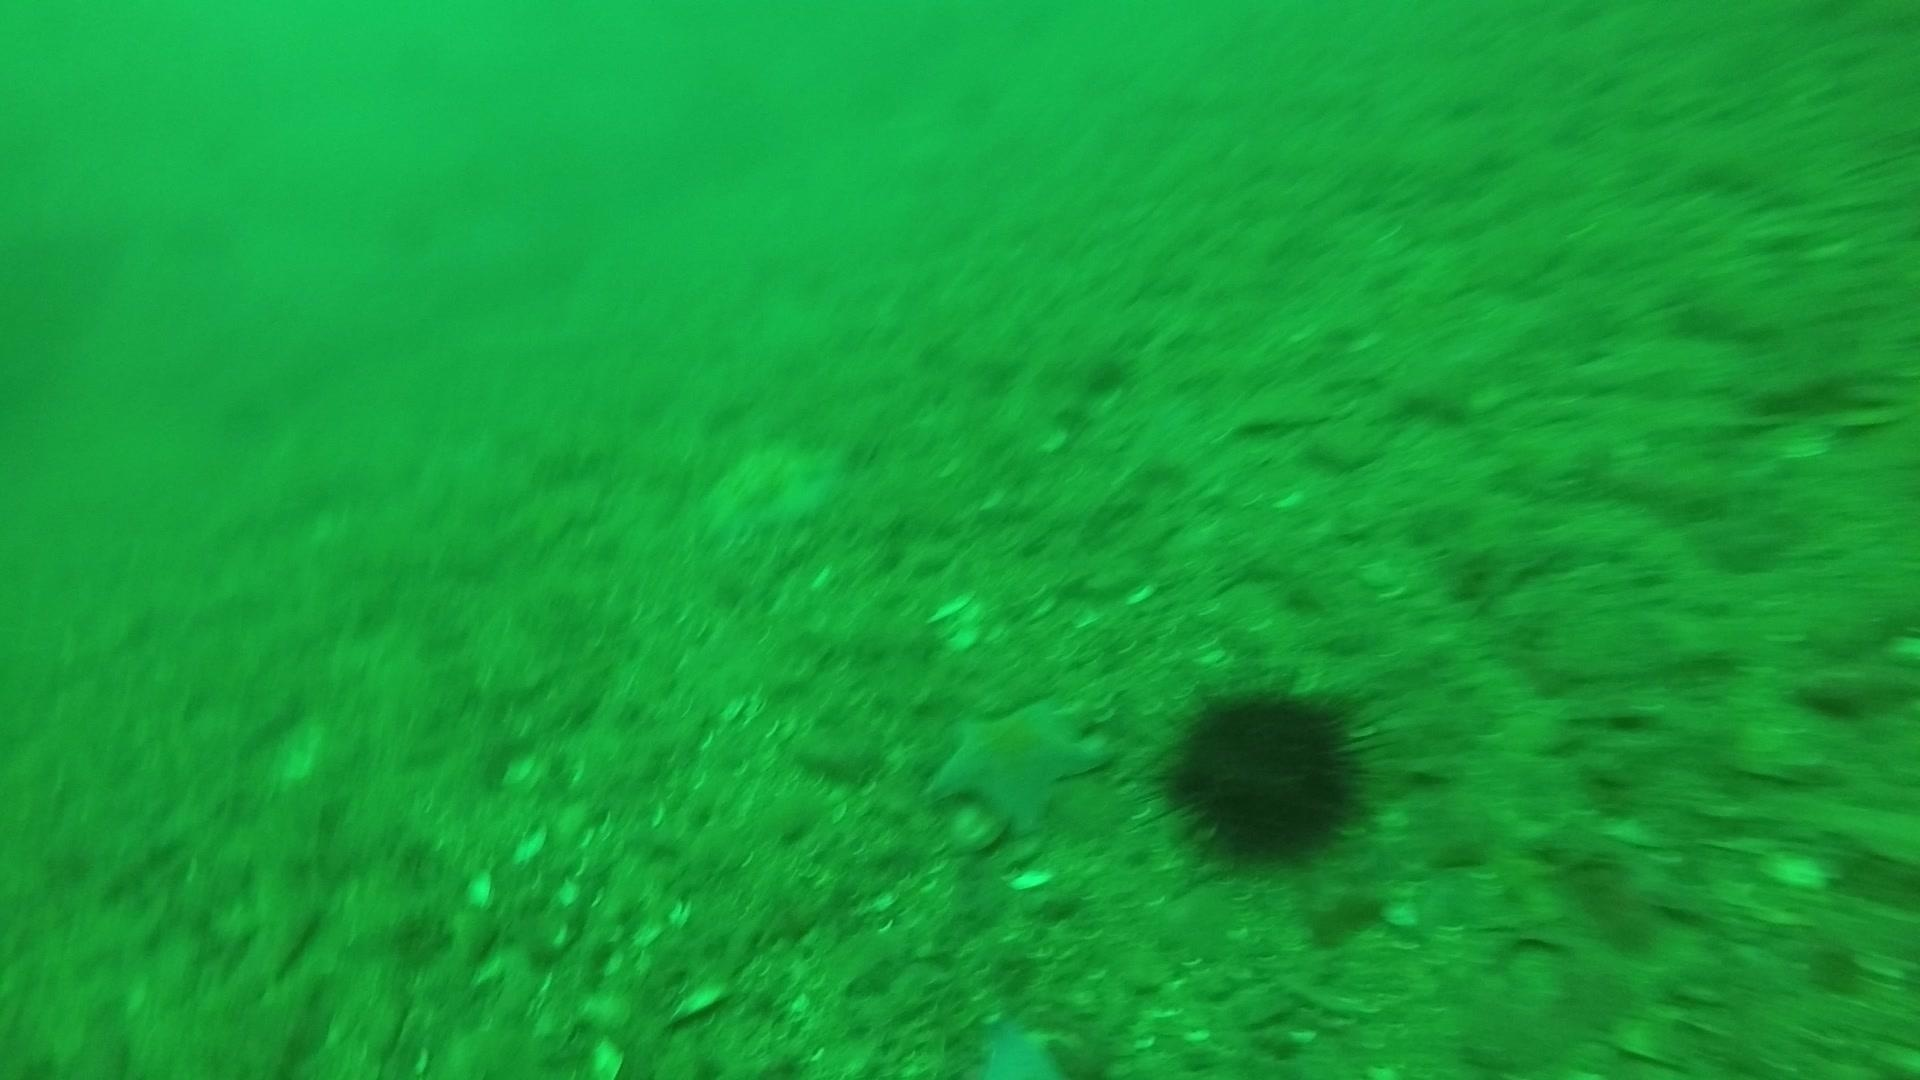echinus: (1151, 671, 1385, 872)
starfish: (920, 687, 1114, 848), (694, 429, 851, 554), (965, 1007, 1072, 1077)
